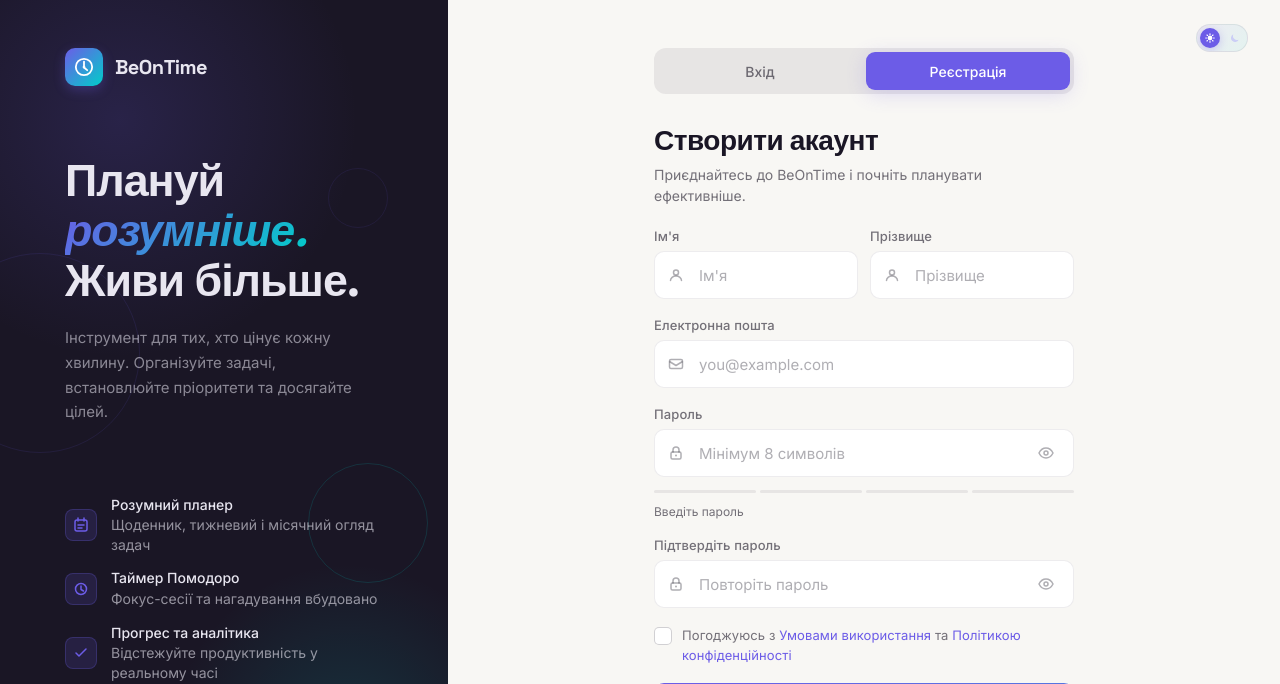
Test case: RegisterPage Component › повинен правильно оцінювати міцність пароля
The image size is (1280, 684).
Expected: the text "Введіть пароль" is shown, [654,504,744,519]
Note: Короткий пароль
Type "12345" into the password field labelled "Пароль" at (864, 453), box [654,429,1074,477]
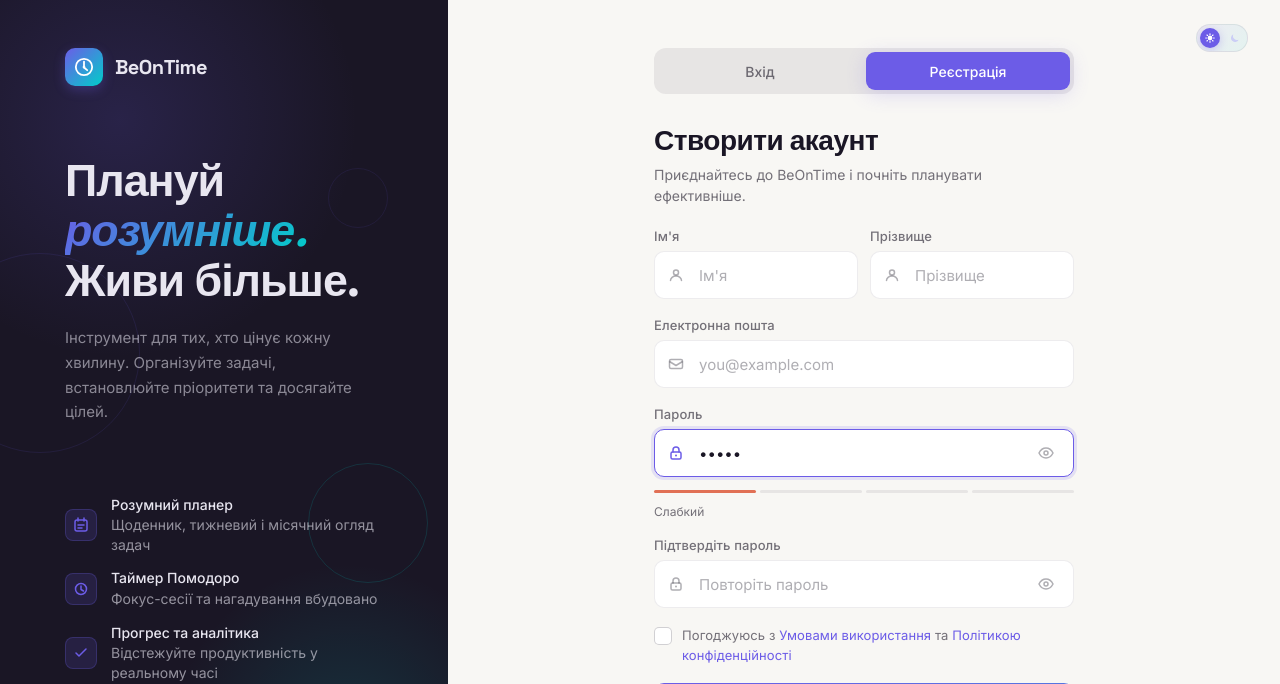
Expected: the text "Слабкий" is shown, [654,504,704,519]
Note: Довгий пароль + велика літера (2 бали)
Type "Abcdefghij" into the password field labelled "Пароль" at (864, 453), box [654,429,1074,477]
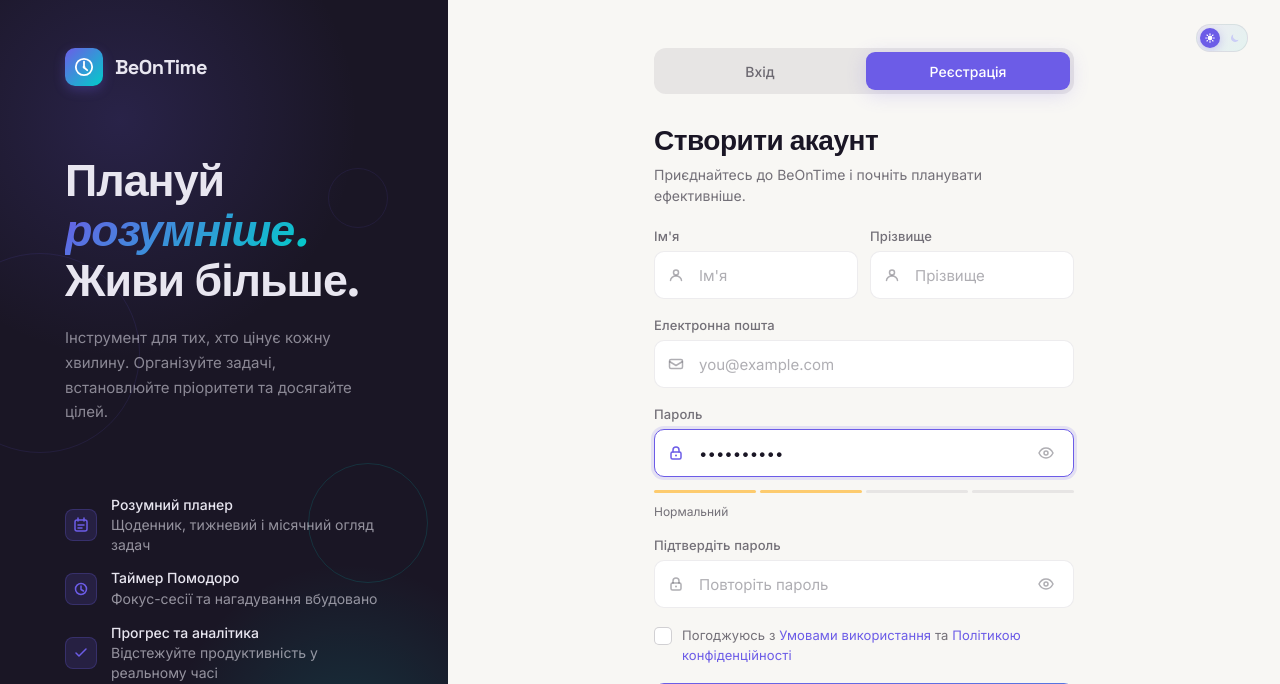
Expected: the text "Нормальний" is shown, [654,504,728,519]
Note: Літери (з великою) + цифри
Type "Password123" into the password field labelled "Пароль" at (864, 453), box [654,429,1074,477]
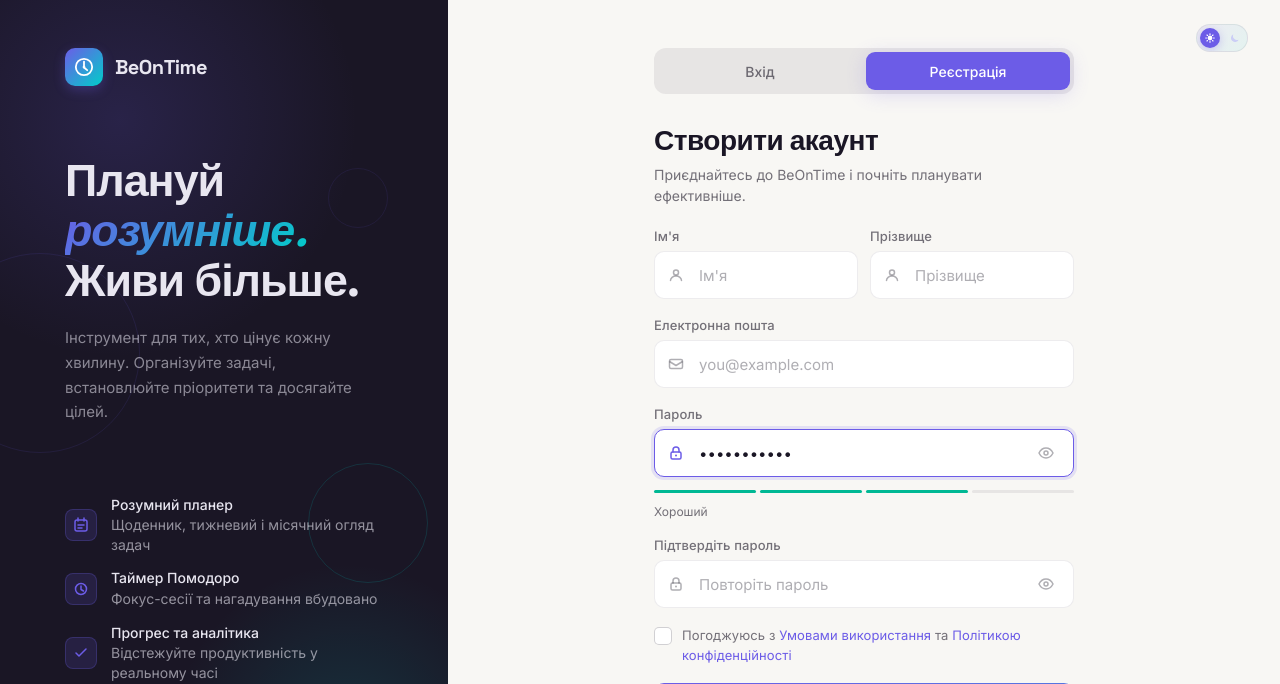
Expected: the text "Хороший" is shown, [654,504,708,519]
Note: Літери + цифри + спецсимволи
Type "StrongP@ss123!" into the password field labelled "Пароль" at (864, 453), box [654,429,1074,477]
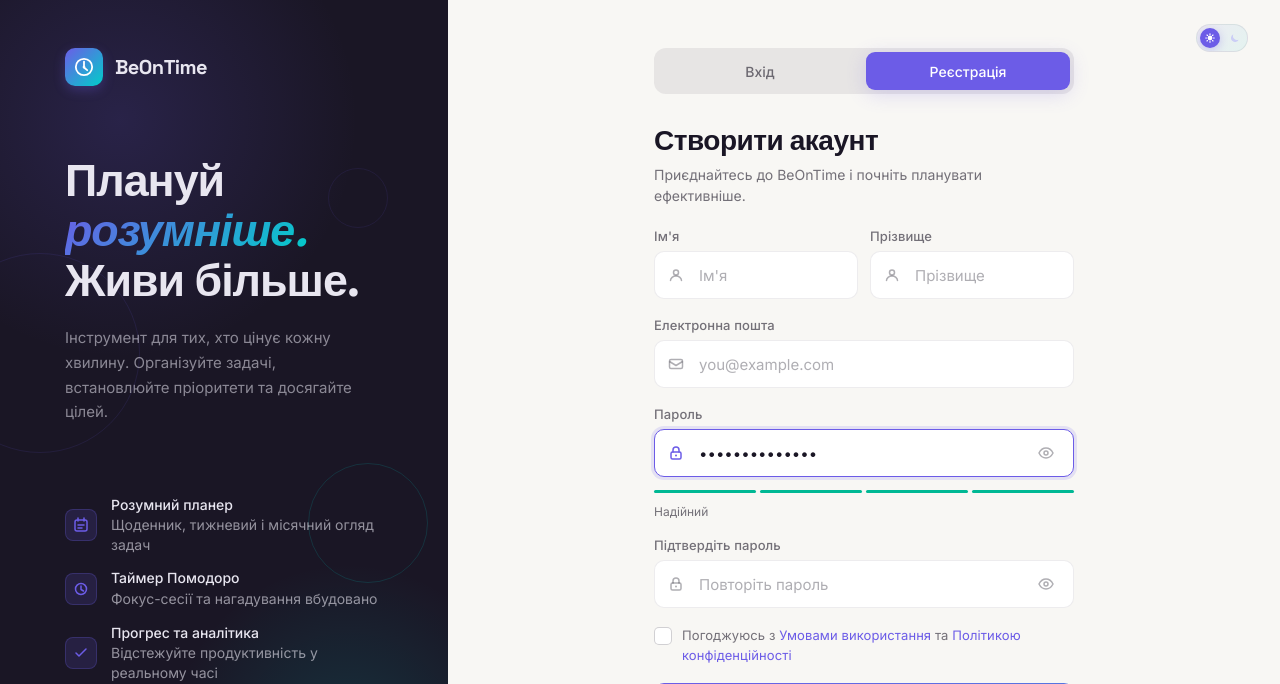
Expected: the text "Надійний" is shown, [654,504,708,519]
